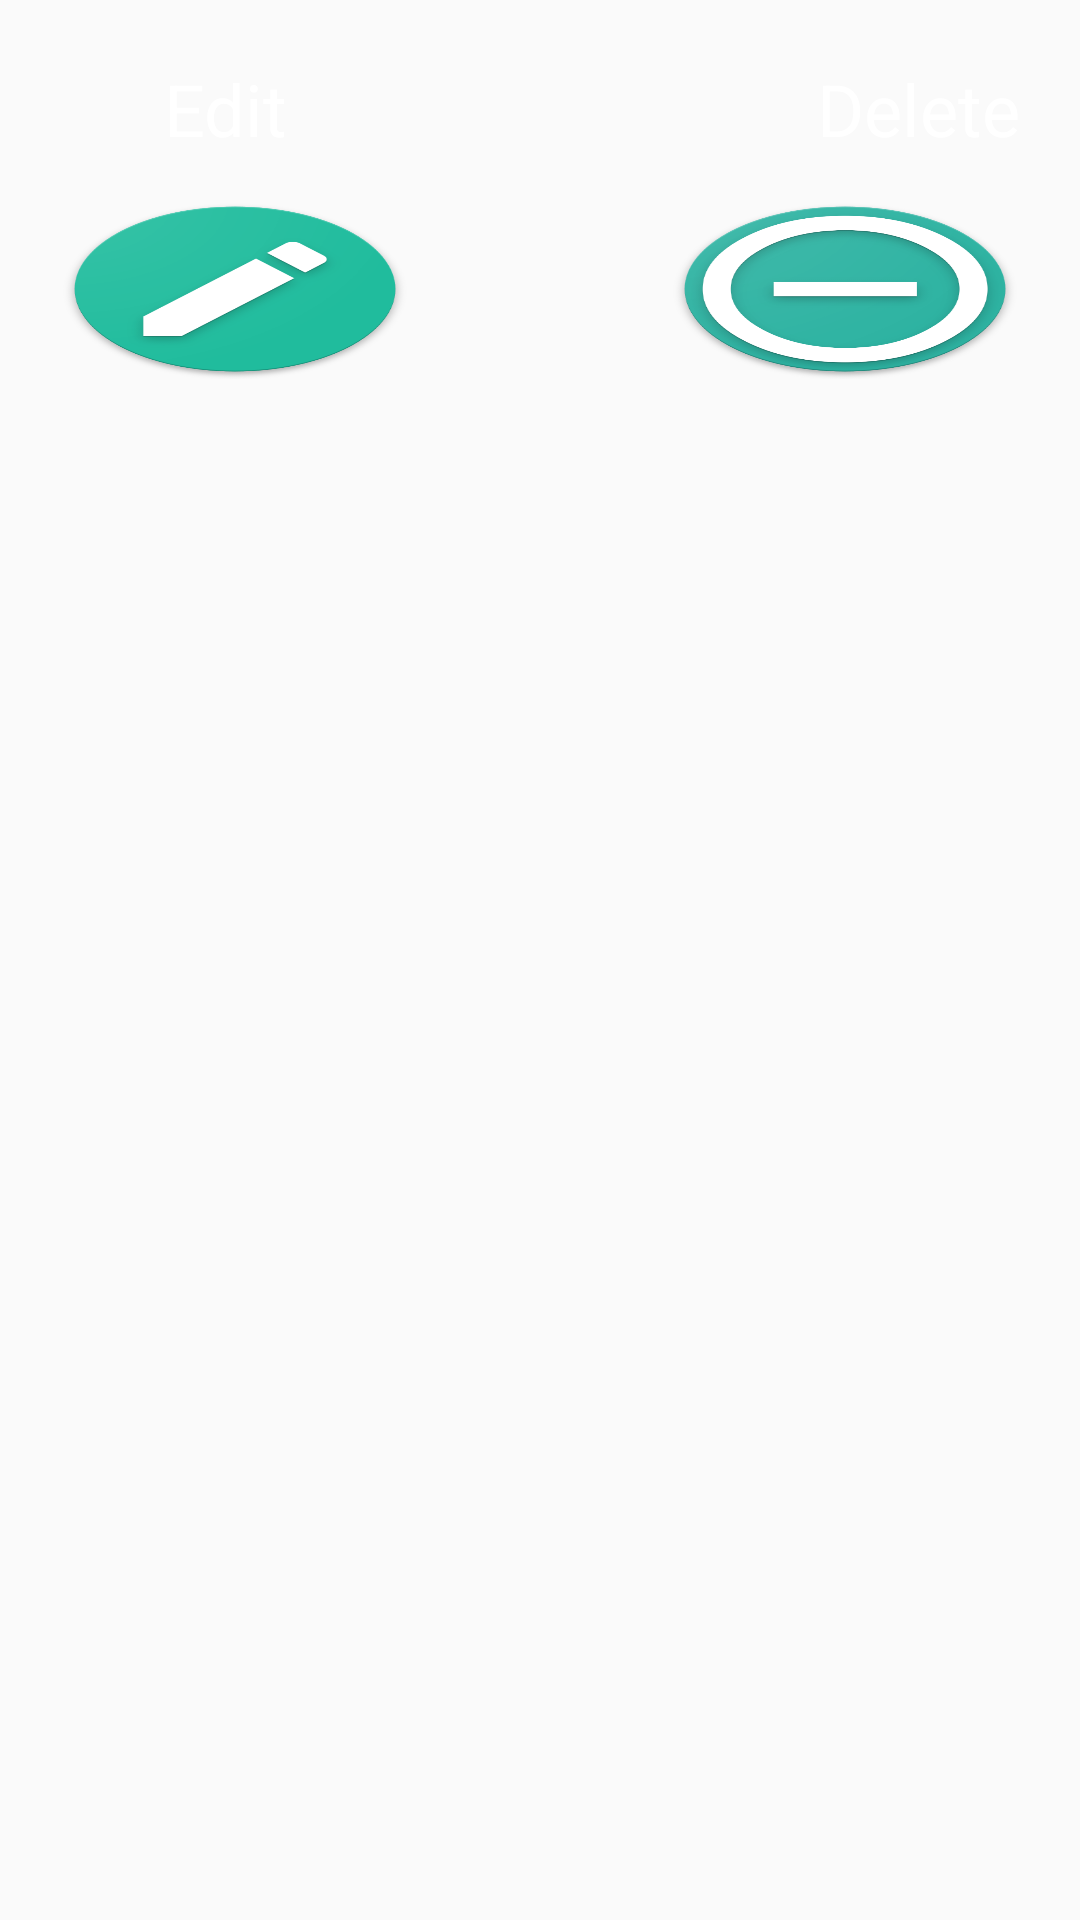

Icons on this 1080×1920 Android screen, each with the point to tap as (x,y):
minus: (845,290)
